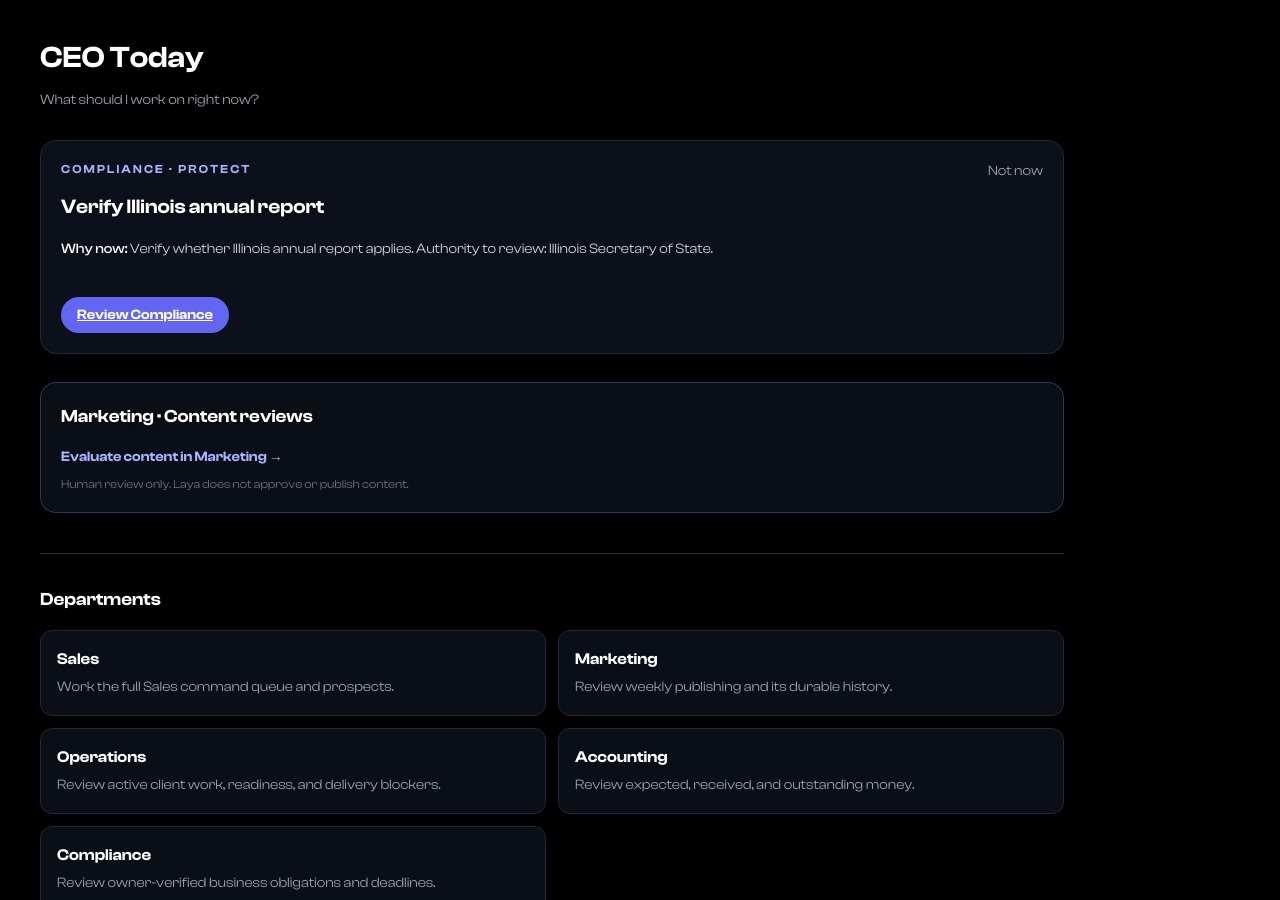
AdminOverview CEO Today › renders a read-only PROTECT verification card and keeps Not now local
Expected: the heading "Verify Illinois annual report" is shown, [61,193,324,221]
Expected: the text "Verify whether Illinois annual report applies" is shown, [130,241,713,257]
Click the button "Not now". click: (1015, 171)
box: [988,161,1043,181]
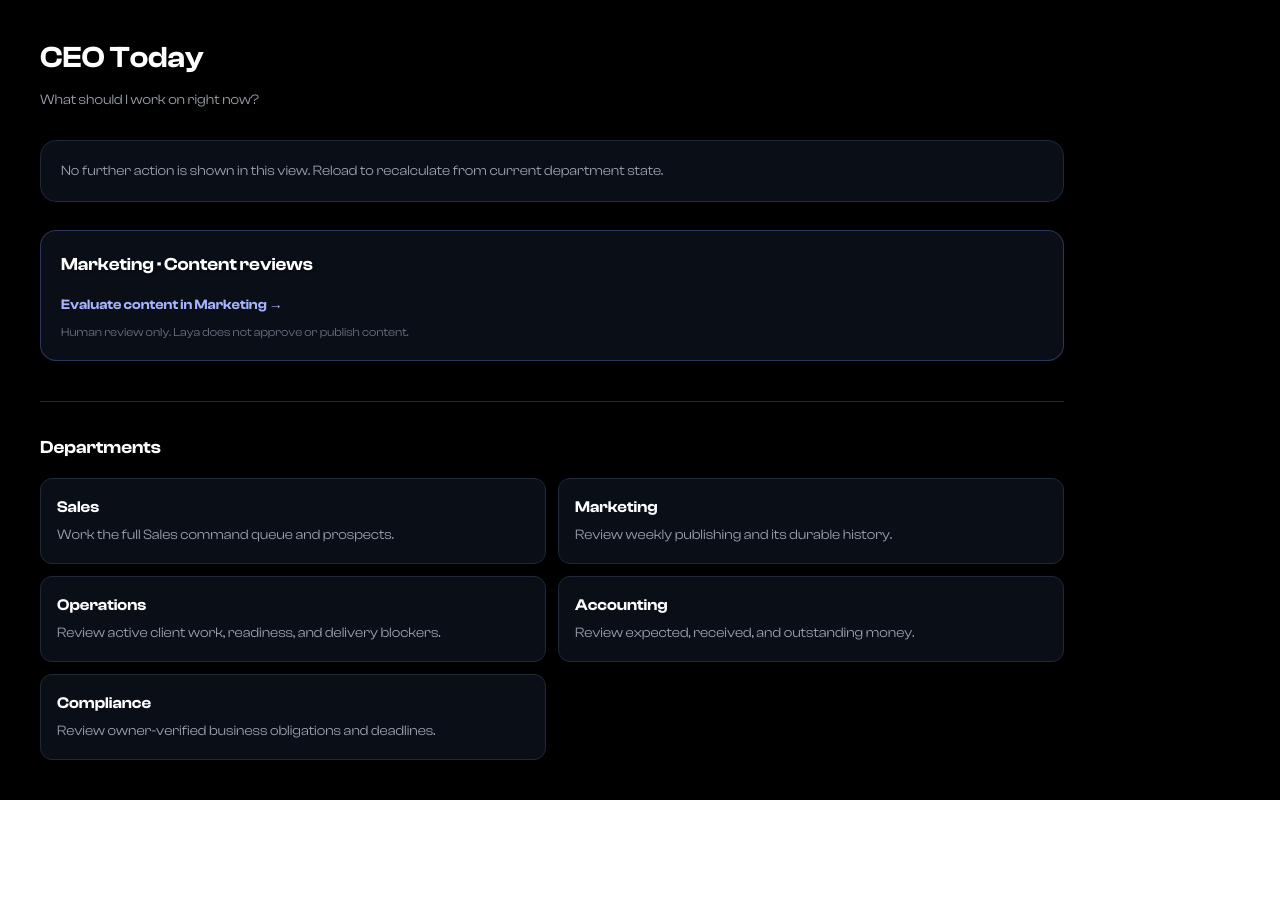
Expected: the heading "Verify Illinois annual report" is gone
